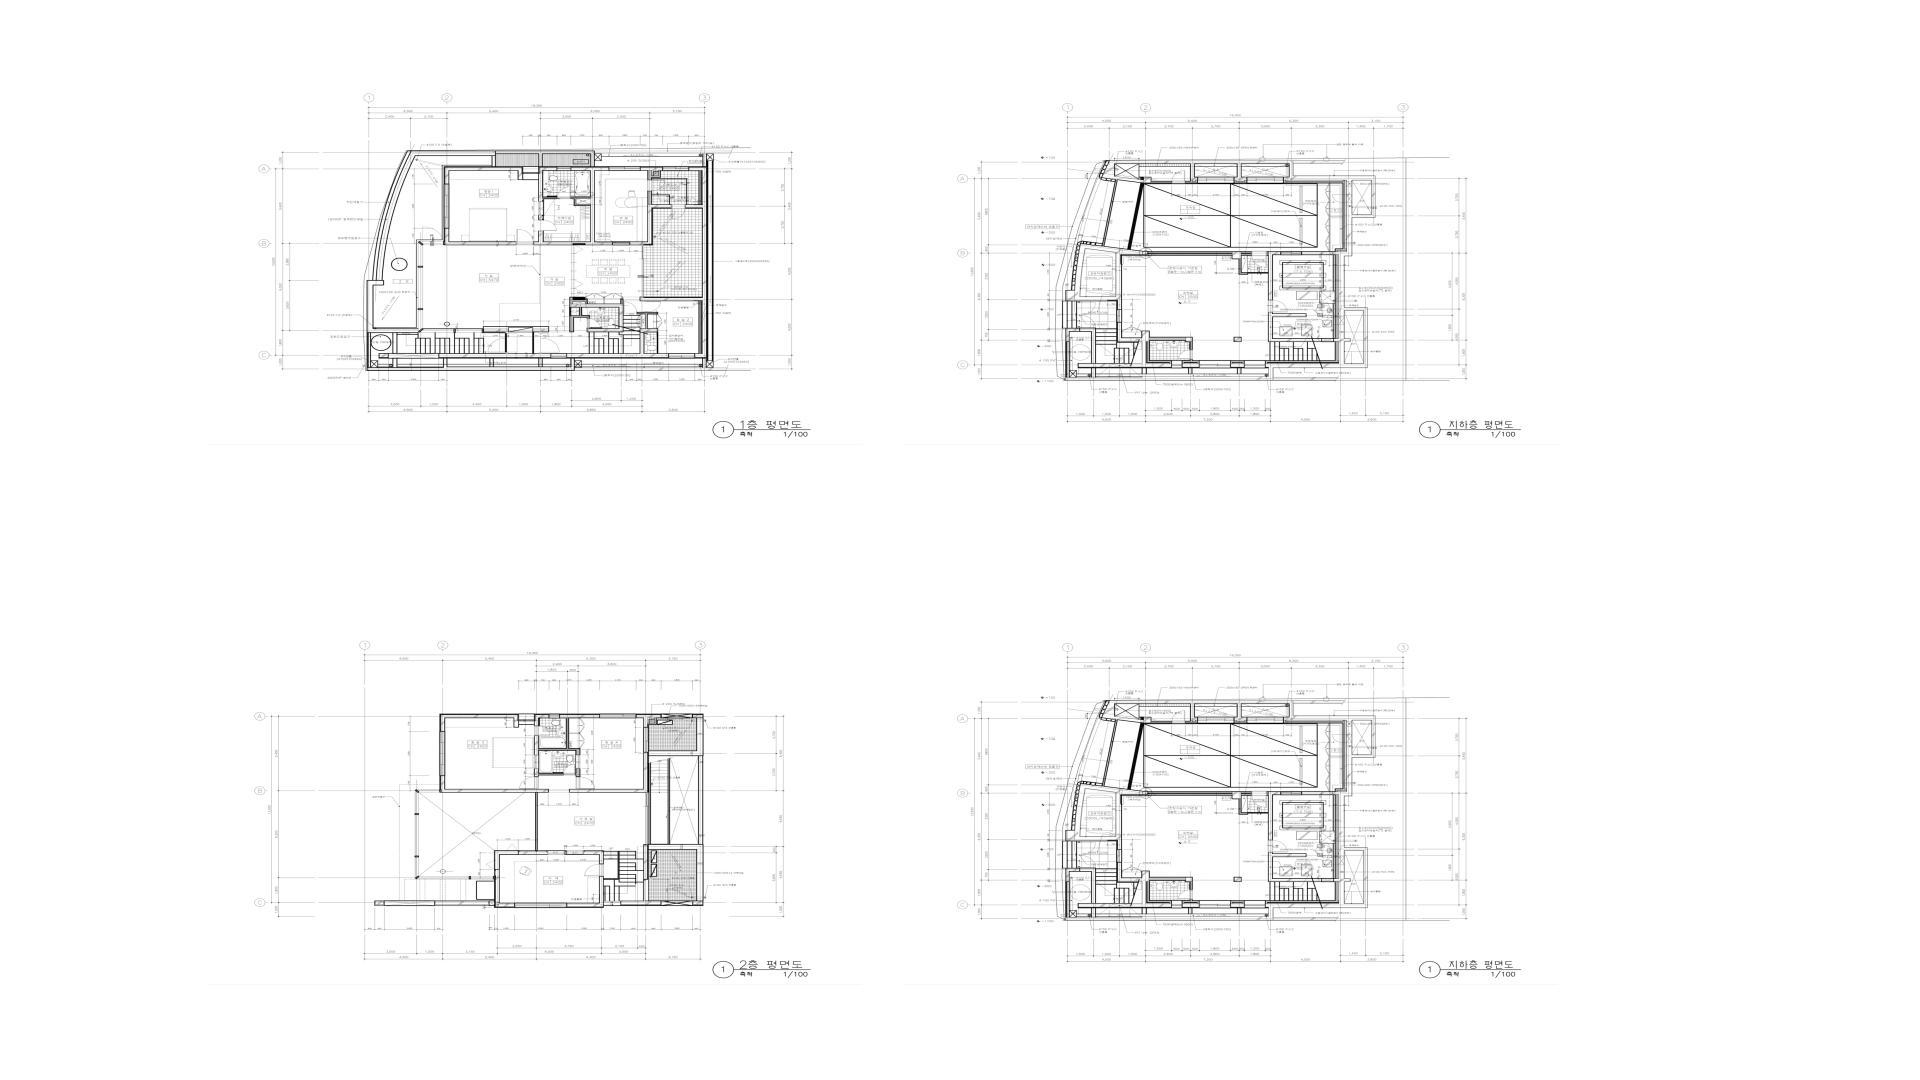door: (1077, 300, 1096, 328), (1077, 840, 1096, 868), (539, 333, 559, 352), (488, 333, 508, 352), (516, 229, 534, 245), (1251, 251, 1267, 267), (1251, 791, 1267, 807), (1268, 300, 1288, 312), (1268, 840, 1288, 852), (584, 864, 604, 876), (519, 777, 539, 789), (576, 777, 595, 789), (671, 204, 685, 219), (538, 220, 557, 231), (647, 180, 665, 191), (644, 301, 661, 312), (557, 186, 571, 199), (535, 792, 538, 850), (1172, 170, 1185, 183), (624, 301, 637, 314), (1172, 710, 1185, 723), (594, 241, 630, 245), (534, 726, 550, 735), (1178, 350, 1193, 359), (1178, 890, 1193, 899), (587, 318, 600, 328), (643, 879, 649, 900), (564, 764, 575, 775), (656, 332, 658, 353), (1248, 272, 1269, 274), (1248, 812, 1269, 814)
wall: (376, 150, 416, 280), (702, 171, 707, 354), (1114, 160, 1289, 164), (1114, 700, 1289, 704), (443, 366, 575, 371), (1066, 377, 1269, 380), (1066, 917, 1269, 920), (1266, 363, 1368, 368), (411, 150, 496, 156), (1266, 903, 1368, 908), (567, 353, 668, 358), (1075, 247, 1085, 296), (1075, 787, 1085, 836), (698, 756, 703, 844), (1080, 244, 1122, 254), (1080, 784, 1122, 794), (696, 850, 704, 901), (496, 150, 595, 154), (1347, 180, 1352, 252), (1347, 720, 1352, 792), (590, 171, 595, 241), (1289, 176, 1376, 180), (1289, 716, 1376, 720), (439, 354, 551, 357), (649, 844, 704, 850), (649, 750, 704, 756), (435, 900, 489, 906), (367, 280, 373, 333), (533, 241, 612, 245), (445, 789, 549, 792), (384, 900, 435, 906), (367, 367, 443, 371), (1339, 256, 1344, 316), (1339, 796, 1344, 856), (569, 789, 643, 793), (1116, 252, 1122, 300), (1116, 792, 1122, 840), (449, 167, 518, 171), (449, 241, 516, 245), (1078, 363, 1142, 367), (1078, 903, 1142, 907), (696, 718, 704, 750), (388, 353, 439, 358), (1268, 251, 1273, 300), (1268, 791, 1273, 840), (647, 205, 653, 245), (621, 900, 661, 906), (1102, 176, 1141, 182), (1102, 716, 1141, 722), (494, 870, 500, 908), (445, 715, 518, 718), (373, 328, 416, 333), (1364, 850, 1368, 903), (1364, 310, 1368, 363), (643, 844, 649, 879), (643, 752, 648, 793), (1273, 377, 1338, 380), (560, 713, 599, 718), (1273, 917, 1338, 920), (1273, 338, 1321, 342), (1273, 878, 1321, 882), (661, 900, 693, 906), (640, 298, 703, 301), (1065, 881, 1070, 917), (1065, 341, 1070, 377), (1103, 160, 1114, 176), (1103, 700, 1114, 716), (1147, 254, 1233, 256), (1147, 794, 1233, 796), (668, 758, 670, 844), (1335, 254, 1337, 339), (1147, 251, 1232, 253), (1335, 794, 1337, 879), (1147, 791, 1232, 793), (1075, 296, 1116, 300), (1075, 836, 1116, 840), (649, 762, 651, 844), (1120, 248, 1147, 254), (569, 304, 623, 307), (1120, 788, 1147, 794), (661, 713, 693, 718), (567, 903, 599, 908), (599, 876, 604, 908), (1293, 160, 1345, 163), (1293, 700, 1345, 703), (1091, 332, 1096, 363), (1091, 872, 1096, 903), (571, 167, 609, 171), (1268, 312, 1273, 342), (483, 326, 508, 332), (1268, 852, 1273, 882), (1372, 180, 1376, 217), (587, 328, 624, 332), (1372, 720, 1376, 757), (1267, 360, 1339, 362), (1267, 900, 1339, 902), (519, 850, 547, 855), (1343, 180, 1345, 248), (1273, 313, 1307, 317), (367, 333, 371, 367), (1273, 853, 1307, 857), (1343, 720, 1345, 788), (1302, 251, 1335, 255), (1302, 791, 1335, 795), (508, 327, 533, 332), (494, 850, 500, 870), (1284, 181, 1343, 183), (1284, 721, 1343, 723), (1142, 363, 1171, 367), (1142, 903, 1171, 907), (1149, 337, 1186, 340), (1149, 877, 1186, 880), (538, 748, 575, 751), (1333, 303, 1336, 339), (1333, 843, 1336, 879), (1339, 342, 1344, 363), (619, 307, 624, 328), (1339, 882, 1344, 903), (1065, 290, 1075, 300), (1122, 337, 1142, 342), (640, 328, 644, 353), (392, 333, 397, 353), (1065, 830, 1075, 840), (1122, 877, 1142, 882), (584, 850, 604, 855), (533, 326, 549, 332), (439, 715, 445, 731), (500, 850, 519, 855), (539, 170, 542, 201), (1182, 363, 1199, 368), (1182, 903, 1199, 908), (1142, 342, 1146, 363), (1142, 882, 1146, 903), (534, 735, 538, 755), (1118, 322, 1122, 341), (1118, 862, 1122, 881), (500, 903, 515, 908), (636, 714, 661, 717), (689, 167, 707, 171), (630, 241, 648, 245), (1333, 255, 1335, 291), (1344, 307, 1368, 310), (1344, 847, 1368, 850), (1333, 795, 1335, 831), (647, 191, 652, 205), (569, 318, 574, 332), (445, 228, 449, 245), (441, 776, 445, 793), (699, 171, 701, 204), (1231, 363, 1244, 368), (1339, 325, 1344, 338), (1190, 164, 1195, 177), (1237, 164, 1242, 177), (518, 167, 523, 180), (538, 154, 543, 167), (1339, 865, 1344, 878), (1190, 704, 1195, 717), (1237, 704, 1242, 717), (1231, 903, 1244, 908), (1080, 328, 1096, 332), (1289, 160, 1293, 176), (445, 168, 449, 184), (1289, 700, 1293, 716), (1080, 868, 1096, 872), (641, 167, 662, 170), (1232, 251, 1241, 258), (1232, 791, 1241, 798), (590, 154, 595, 166), (538, 231, 544, 241), (1065, 328, 1080, 332), (1352, 214, 1372, 217), (1141, 177, 1151, 183), (1352, 754, 1372, 757), (1141, 717, 1151, 723), (1065, 868, 1080, 872), (567, 718, 569, 748), (374, 900, 384, 906), (644, 328, 658, 332), (535, 714, 549, 718), (373, 280, 384, 285), (539, 167, 557, 170), (1147, 342, 1150, 360), (1147, 882, 1150, 900), (1339, 252, 1352, 256), (1321, 338, 1334, 342), (1339, 792, 1352, 796), (1321, 878, 1334, 882), (538, 773, 564, 775), (685, 204, 702, 207), (1239, 258, 1242, 275), (1239, 798, 1242, 815), (647, 170, 652, 180), (693, 901, 703, 906), (695, 354, 707, 358), (1142, 331, 1150, 337), (1269, 368, 1273, 380), (1334, 339, 1350, 342), (1334, 879, 1350, 882), (1142, 871, 1150, 877), (1269, 908, 1273, 920), (1091, 908, 1096, 917), (1065, 332, 1070, 341), (1091, 368, 1096, 377), (1339, 316, 1344, 325), (392, 358, 397, 367), (1339, 856, 1344, 865), (1065, 872, 1070, 881), (599, 855, 604, 864), (1147, 360, 1169, 362), (492, 156, 496, 167), (1147, 900, 1169, 902), (693, 714, 704, 718), (1151, 181, 1172, 183), (645, 314, 648, 328), (637, 312, 658, 314), (1151, 721, 1172, 723), (489, 358, 494, 366), (571, 197, 591, 199), (538, 358, 543, 366), (643, 717, 647, 727), (1234, 177, 1247, 180), (1234, 717, 1247, 720), (653, 205, 671, 207), (1118, 300, 1122, 309), (1335, 342, 1337, 360), (379, 353, 388, 357), (1335, 882, 1337, 900), (1118, 840, 1122, 849), (534, 768, 538, 777), (576, 768, 580, 777), (514, 718, 518, 727), (1142, 337, 1149, 342), (1142, 877, 1149, 882), (575, 748, 580, 755), (574, 204, 591, 206), (1273, 251, 1281, 255), (571, 358, 575, 366), (443, 358, 447, 366), (1273, 791, 1281, 795), (1188, 908, 1193, 914), (1142, 908, 1147, 914), (538, 215, 544, 220), (1237, 368, 1242, 374), (1188, 368, 1193, 374), (1142, 368, 1147, 374), (569, 315, 579, 318), (542, 197, 557, 199), (489, 900, 494, 906), (1237, 908, 1242, 914), (1186, 337, 1193, 341), (569, 297, 573, 304), (1186, 877, 1193, 881), (1190, 341, 1193, 350), (652, 175, 661, 178), (1190, 881, 1193, 890), (1184, 360, 1197, 362), (1184, 900, 1197, 902), (508, 326, 533, 327), (1337, 248, 1345, 251), (579, 315, 587, 318), (579, 307, 582, 315), (620, 298, 624, 304), (1337, 788, 1345, 791), (535, 718, 538, 726), (538, 751, 539, 773), (1190, 177, 1197, 180), (1190, 717, 1197, 720), (1185, 181, 1195, 183), (1241, 254, 1251, 256), (1241, 251, 1251, 253), (1185, 721, 1195, 723), (1241, 794, 1251, 796), (1241, 791, 1251, 793), (547, 850, 567, 851), (564, 854, 584, 855), (1236, 181, 1245, 183), (1242, 272, 1248, 275), (1233, 360, 1242, 362), (585, 298, 588, 304), (1233, 900, 1242, 902), (1236, 721, 1245, 723), (1242, 812, 1248, 815), (543, 199, 544, 215), (569, 307, 571, 315), (1284, 177, 1289, 180), (658, 170, 661, 175), (1284, 717, 1289, 720), (575, 755, 576, 768), (1335, 252, 1339, 255), (573, 300, 585, 301), (1335, 792, 1339, 795), (655, 717, 657, 723), (574, 199, 576, 204), (647, 723, 657, 724), (587, 315, 590, 318), (564, 851, 567, 854), (1335, 248, 1337, 252), (1335, 788, 1337, 792), (1245, 180, 1247, 183), (1234, 180, 1236, 183), (1195, 180, 1197, 183), (1169, 360, 1171, 363), (1182, 360, 1184, 363), (1197, 360, 1199, 363), (1231, 360, 1233, 363), (1242, 360, 1244, 363), (1266, 360, 1268, 363), (1242, 900, 1244, 903), (539, 352, 542, 354), (505, 352, 508, 354), (1169, 900, 1171, 903), (1182, 900, 1184, 903), (1197, 900, 1199, 903), (1231, 900, 1233, 903), (1266, 900, 1268, 903), (1245, 720, 1247, 723), (1234, 720, 1236, 723), (1195, 720, 1197, 723), (444, 241, 445, 245), (1345, 249, 1347, 251), (1267, 251, 1269, 253), (1267, 254, 1269, 256), (640, 297, 644, 298), (1345, 789, 1347, 791), (1267, 791, 1269, 793), (1267, 794, 1269, 796), (1190, 180, 1193, 181), (1190, 359, 1193, 360), (505, 332, 508, 333), (539, 332, 542, 333), (1190, 899, 1193, 900), (1190, 720, 1193, 721), (1284, 180, 1286, 181), (1284, 720, 1286, 721), (575, 773, 576, 775), (542, 200, 543, 201), (587, 328, 590, 328), (441, 789, 441, 793)
window: (415, 789, 494, 879), (416, 239, 423, 327), (423, 226, 444, 245), (416, 327, 483, 332), (439, 731, 445, 776), (515, 903, 567, 908), (1199, 360, 1231, 368), (1199, 900, 1231, 908), (1247, 177, 1284, 183), (1197, 177, 1234, 183), (1247, 717, 1284, 723), (1197, 717, 1234, 723), (444, 184, 449, 228), (599, 713, 636, 718), (1244, 360, 1266, 368), (1244, 900, 1266, 908), (609, 166, 641, 171), (643, 727, 649, 752), (668, 353, 695, 358), (662, 166, 689, 171), (519, 713, 535, 721), (523, 166, 538, 174), (642, 245, 644, 297), (646, 793, 648, 844), (1171, 360, 1182, 368), (1171, 900, 1182, 908), (604, 901, 621, 906), (1281, 251, 1302, 255), (1281, 791, 1302, 795), (551, 353, 567, 358), (1116, 309, 1122, 322), (1116, 849, 1122, 862), (557, 166, 571, 171), (549, 713, 560, 718)
